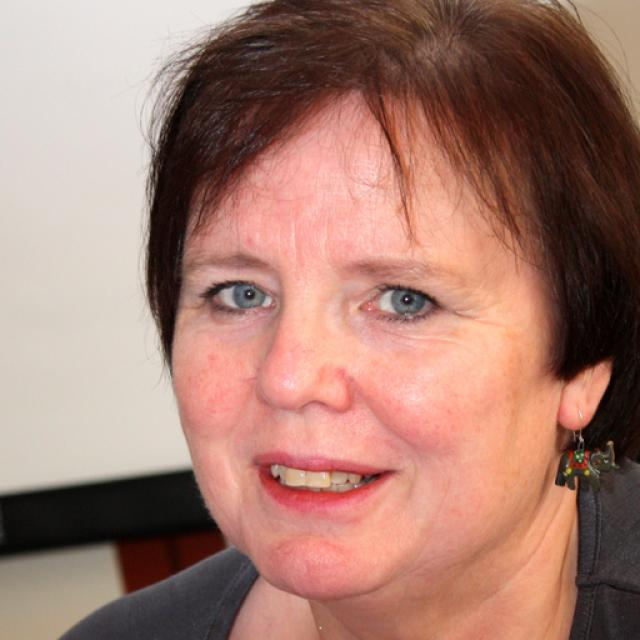Acne: (236, 230, 264, 253)
